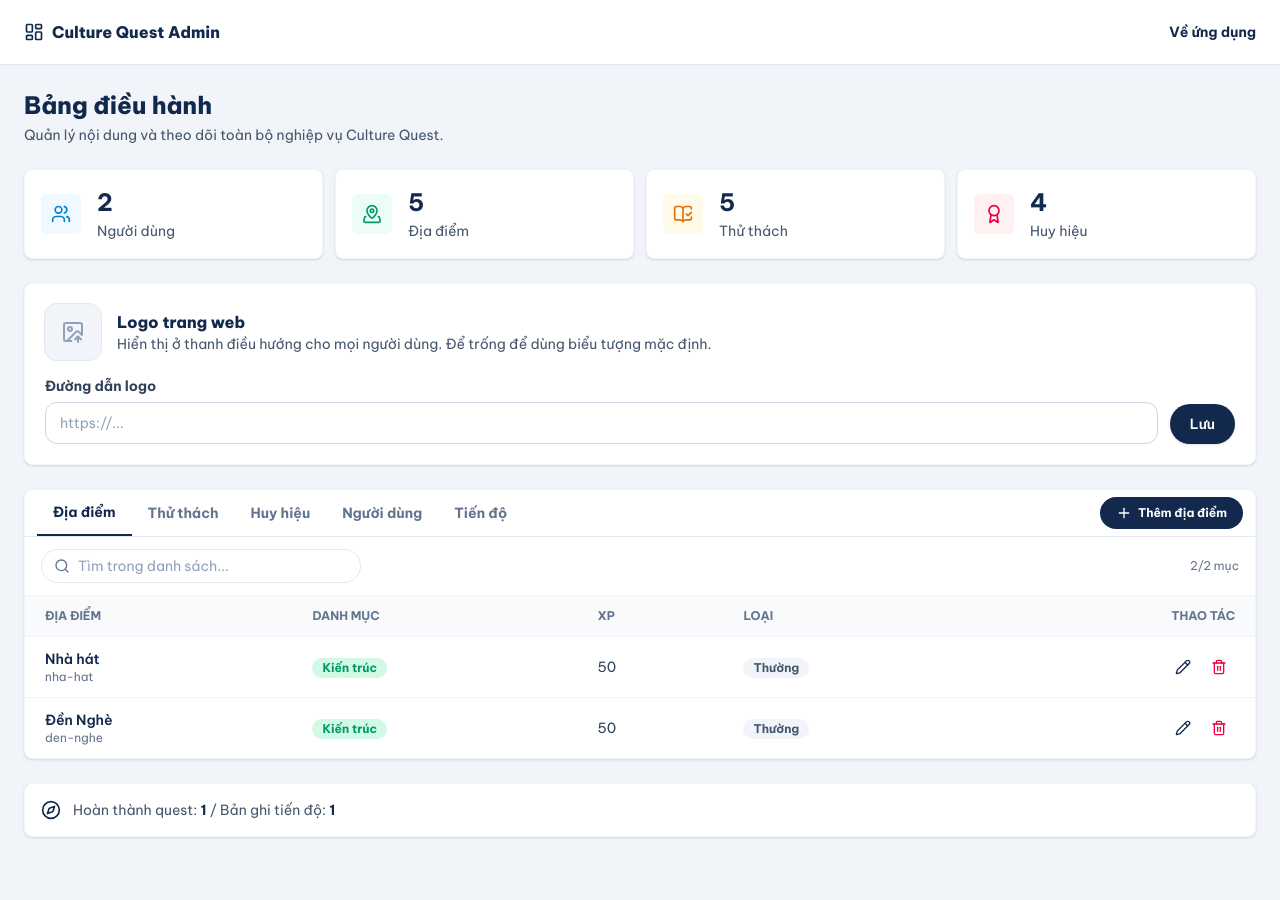
it: AdminPage › locations › deletes only after the confirmation dialog is accepted
Click the button named "Xóa Nhà hát": [1219, 667] box [1203,651,1235,683]
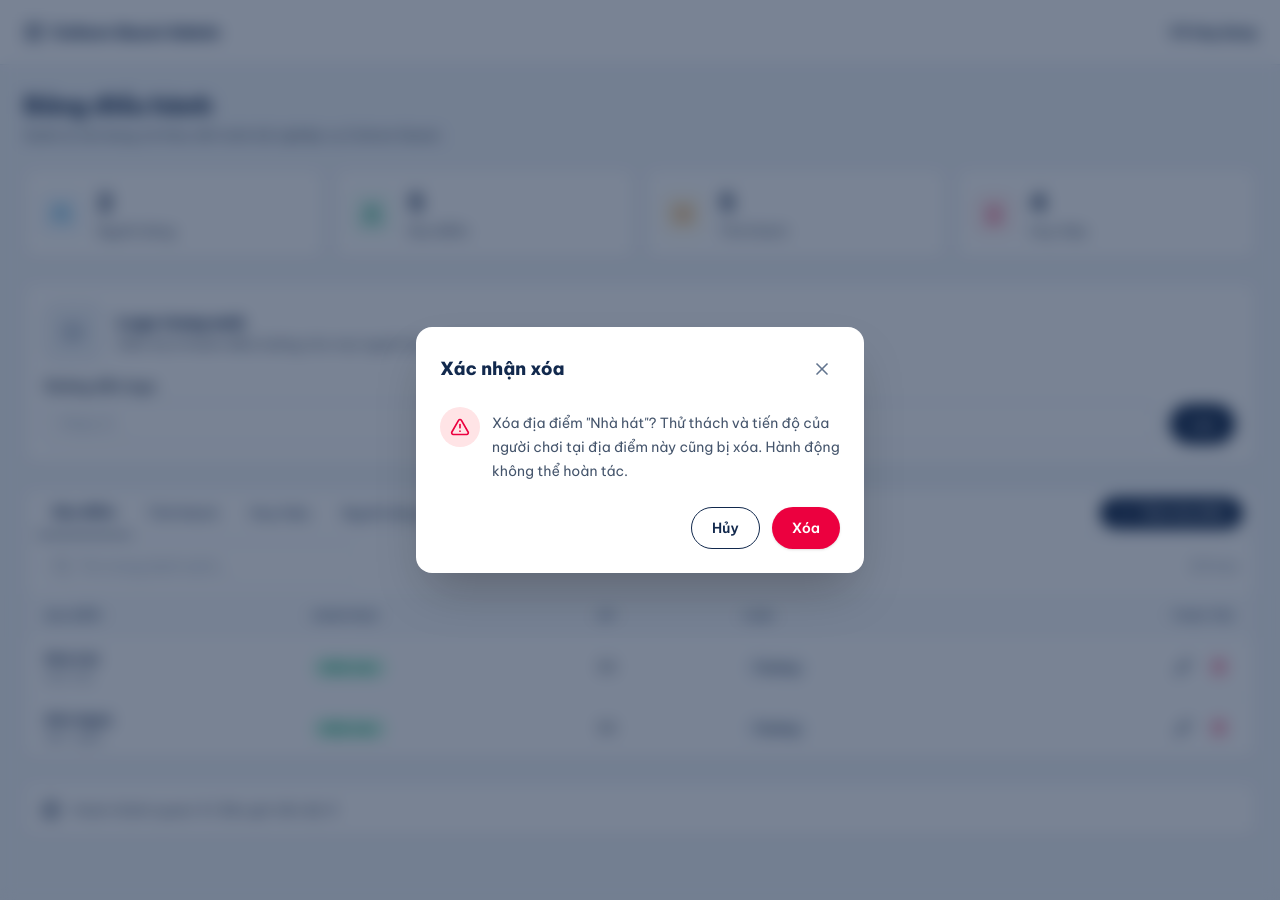
Check: the dialog "Xác nhận xóa" shows "Thử thách và tiến độ của người chơi", box [492,414,840,480]
Click the button "Hủy": [725, 528] box [691,507,760,549]
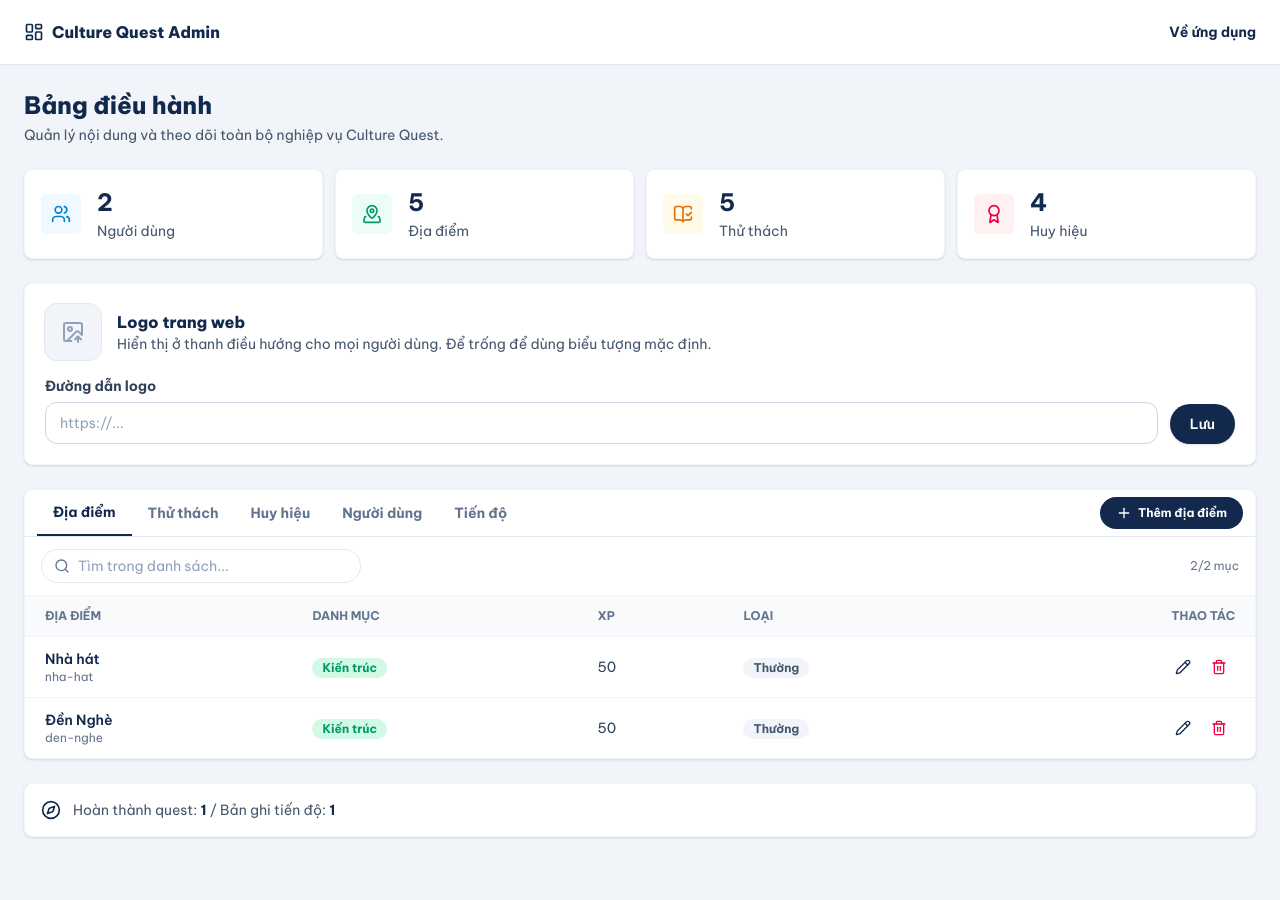
Click the button named "Xóa Nhà hát": [1219, 667] box [1203,651,1235,683]
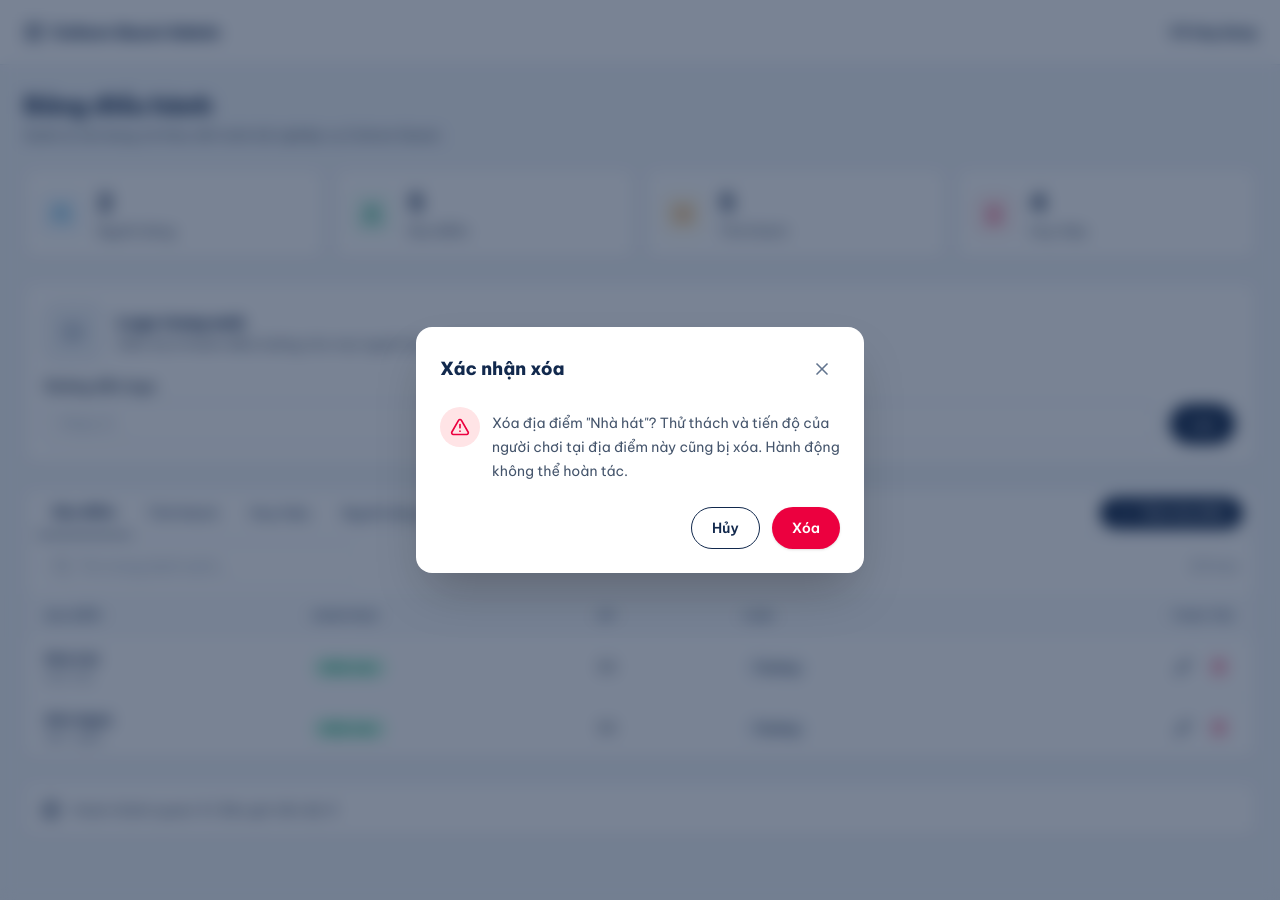
Click the button "Xóa": [806, 528] box [772,507,840,549]
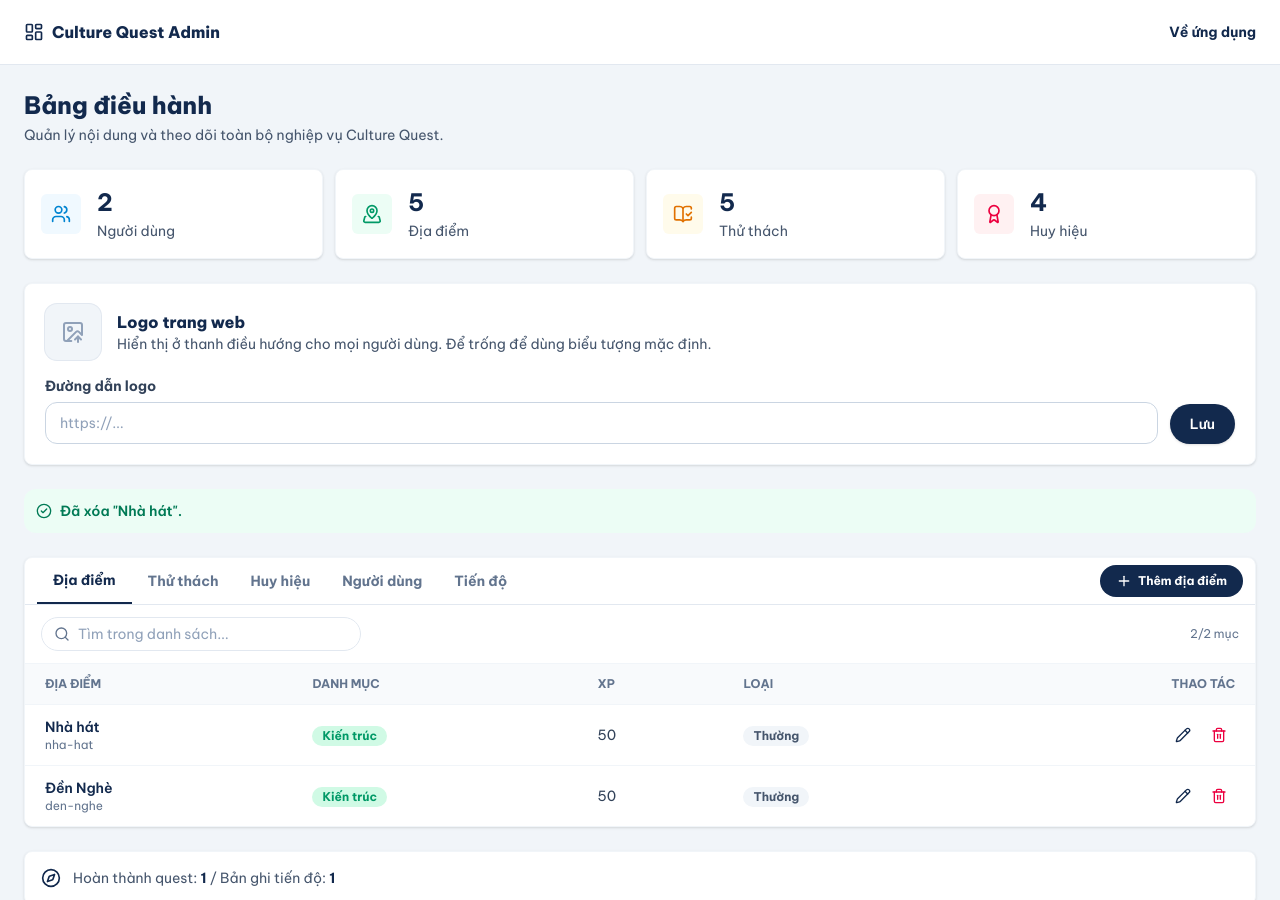
Check: the message reads "Đã xóa \"Nhà hát\".", box [60,502,182,520]
